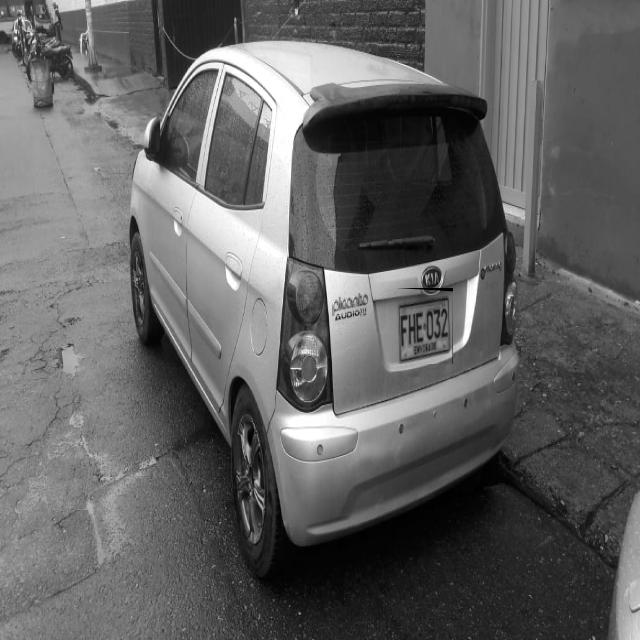plate: (396, 291, 453, 364)
